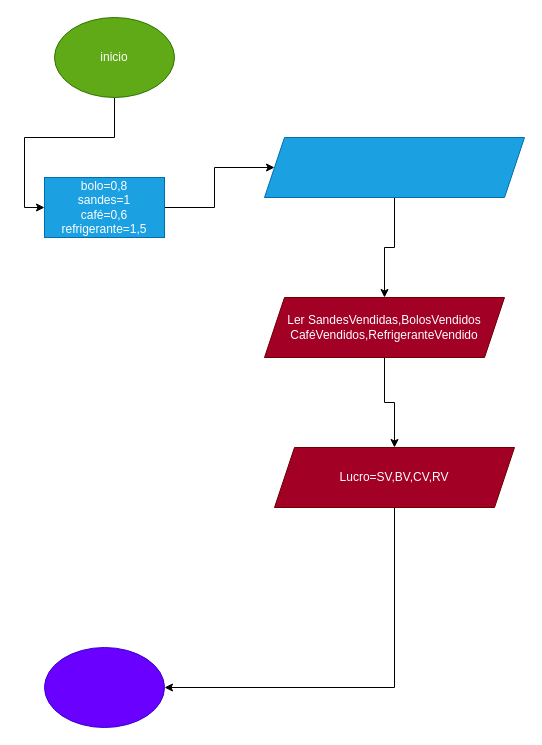
Image size: 542x745. Some labels were removed from this diagram. The centre of each missing label's shape, as x and y in pixels:
Fim: [104,687]
Ler PreçosSandes,PreçosBolos,PreçosCafé PreçosRefrigerante: [394,167]
